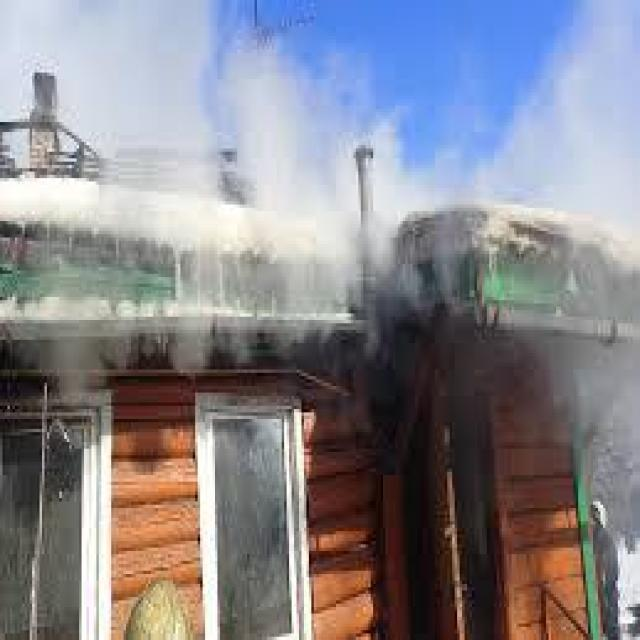Smoke: (4, 43, 387, 376), (405, 13, 640, 452)
